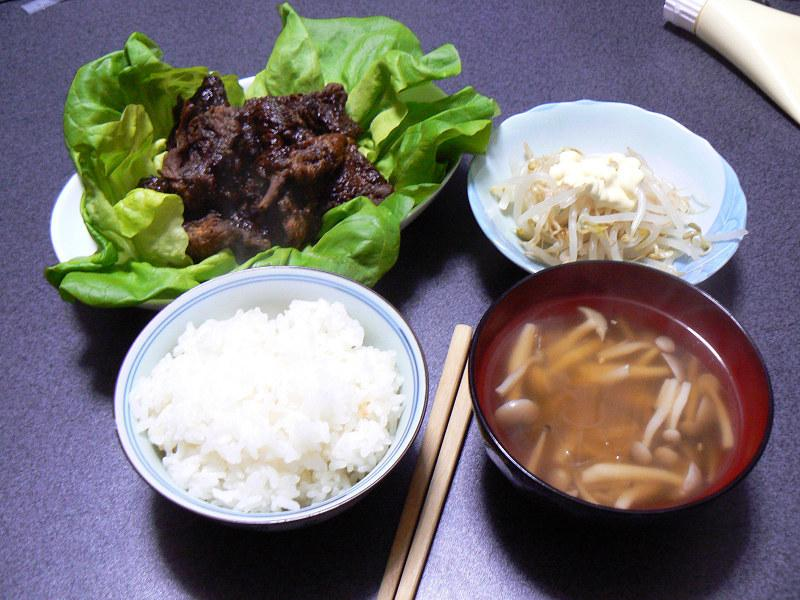plate: (468, 100, 746, 284)
rice: (136, 300, 403, 512)
